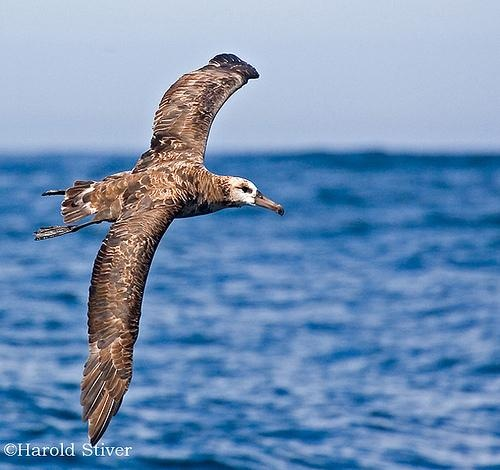bird: (28, 48, 283, 438)
